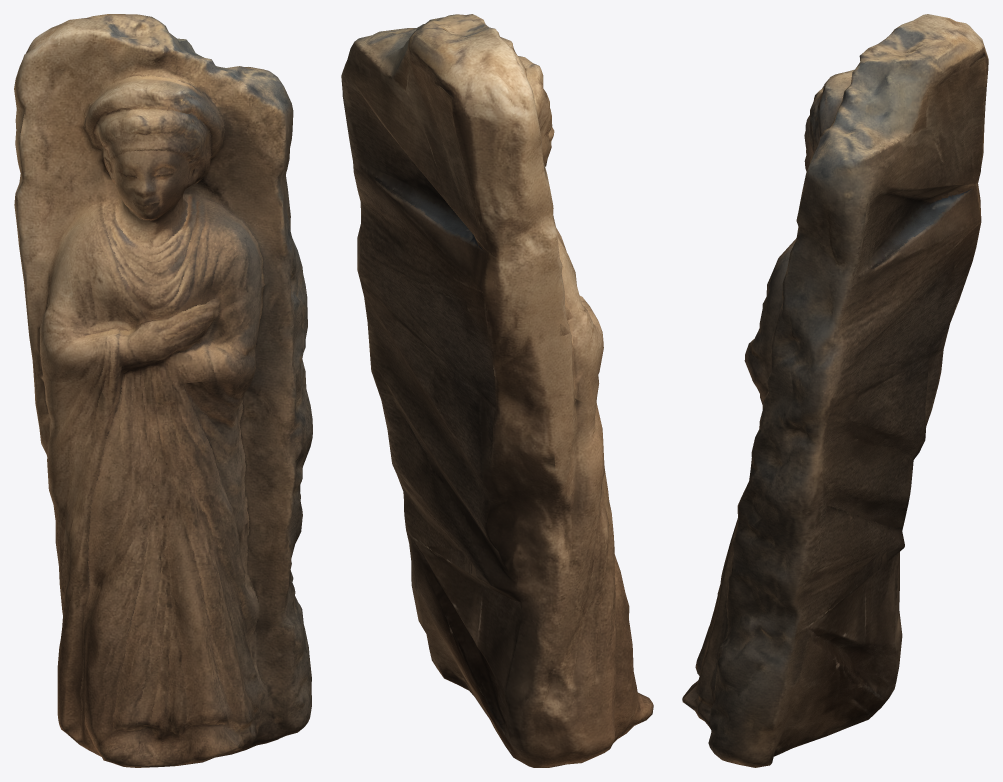
File: relief_figure.glb
The picture shows the model from 3 angles, left to right: view 1: azimuth 30°, elevation 25°; view 2: azimuth 150°, elevation 25°; view 3: azimuth 270°, elevation 25°; orthographic projection. The views are drawn at different scales.
Parts seen in each view (by area): view 1: low; view 2: low; view 3: low.
Part boxes in pixels (x1=…): low: x1=14, y1=14, x2=312, y2=767; low: x1=341, y1=14, x2=653, y2=767; low: x1=682, y1=14, x2=988, y2=767.
Size of the model in its own units: 0.7375 by 2 by 0.796.
1 material, 1 textured.
